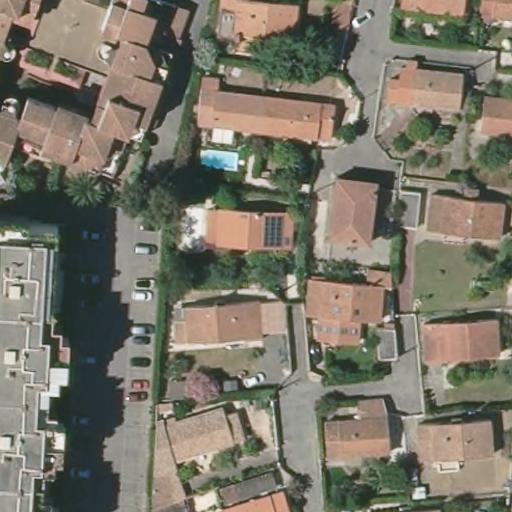pool: (196, 143, 241, 174)
